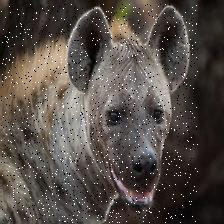hyena: (1, 4, 198, 224)
